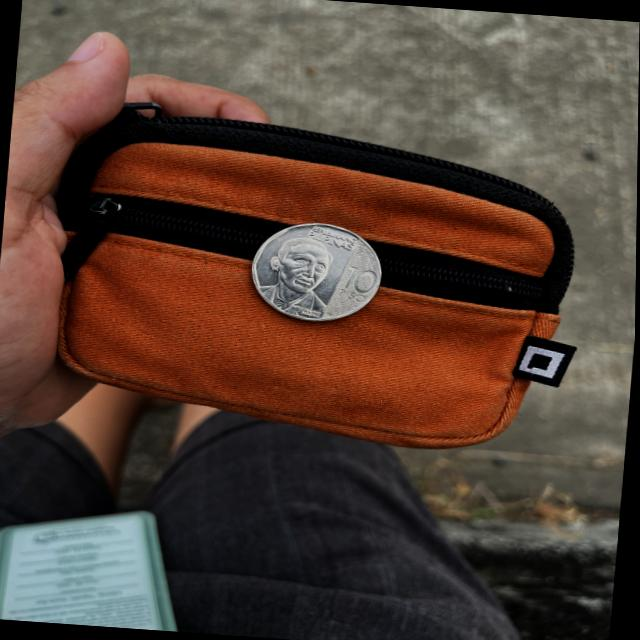10_New_Front: (323, 255, 383, 308)
